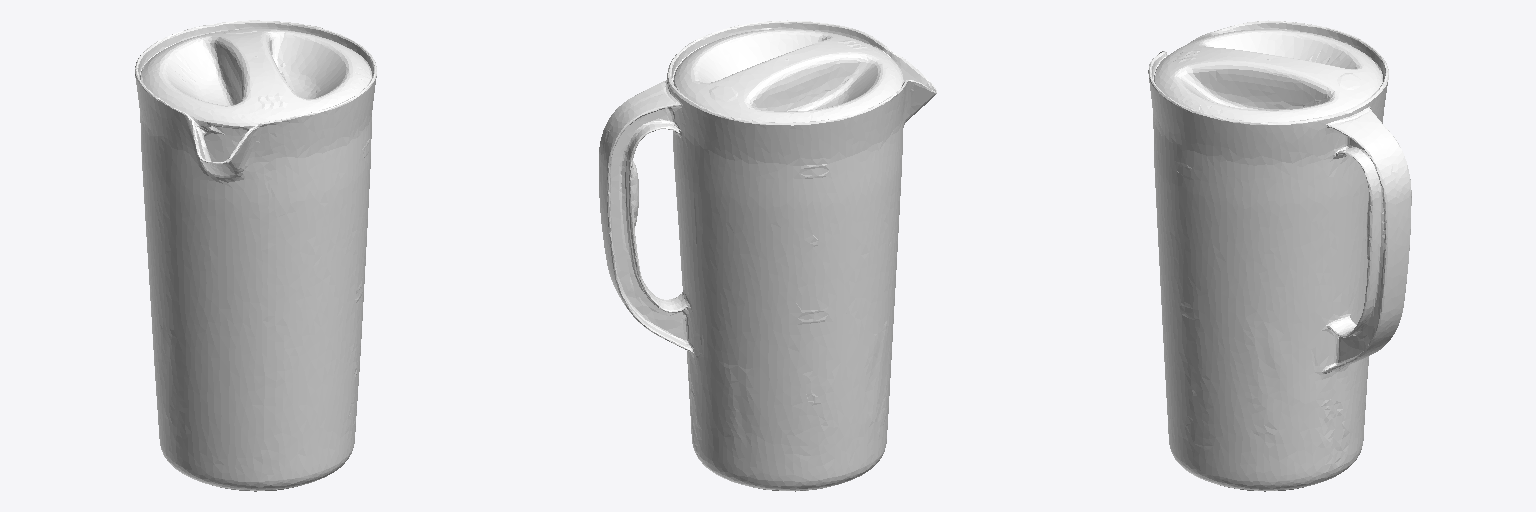
robot.urdf — 019_pitcher_base:
<?xml version="1.0" ?>
<robot name="019_pitcher_base">
    <link name="baseLink">
        <contact>
        <friction_anchor/>
        <lateral_friction value="1.5"/>
        <rolling_friction value="0.1"/>
        <spinning_friction value="0.1"/>
        <contact_cfm value="1e-5"/>
        <contact_erp value="0.8"/>
        </contact>
        <visual>
            <origin rpy="0 0 0" xyz="0 0 0"/>
            <geometry>
                <mesh filename="assets/objects/019_pitcher_base/meshes/019_pitcher_base_textured.obj" scale="1 1 1"/>
            </geometry>
            <material name="white">
                <color rgba="1 1 1 1"/>
            </material>
        </visual>
        <collision>
            <origin rpy="0 0 0" xyz="0 0 0"/>
            <geometry>
                <mesh filename="assets/objects/019_pitcher_base/meshes/019_pitcher_base_textured.obj" scale="1 1 1"/>
            </geometry>
        </collision>
        <inertial>
            <origin rpy="0 0 0" xyz="0 0 0"/>
            <mass value="1.0"/>
            <inertia ixx="0.1" ixy="0" ixz="0" iyy="0.1" iyz="0" izz="0.1"/>
        </inertial>
    </link>
</robot>

--- What the picture shows (computed from the rendered views, not written in the file) ---
Views: 3 orthographic renders of the robot side by side, from view 1: azimuth 30°, elevation 25°; view 2: azimuth 150°, elevation 25°; view 3: azimuth 270°, elevation 25°.
Model 019_pitcher_base with 1 links and 0 joints (none), rooted at baseLink, posed every joint at zero.
Links seen in each view (by area): view 1: baseLink; view 2: baseLink; view 3: baseLink.
Boxes of the visible links, left/top/right/bottom form: baseLink: left=135, top=20, right=376, bottom=491; baseLink: left=599, top=20, right=936, bottom=491; baseLink: left=1148, top=20, right=1411, bottom=491.
Bounding box of the posed robot: 0.1491 × 0.1448 × 0.2424 m (x, y, z).
Meshes: 1 distinct files referenced, 1 mesh visuals loaded (1 OBJ).
